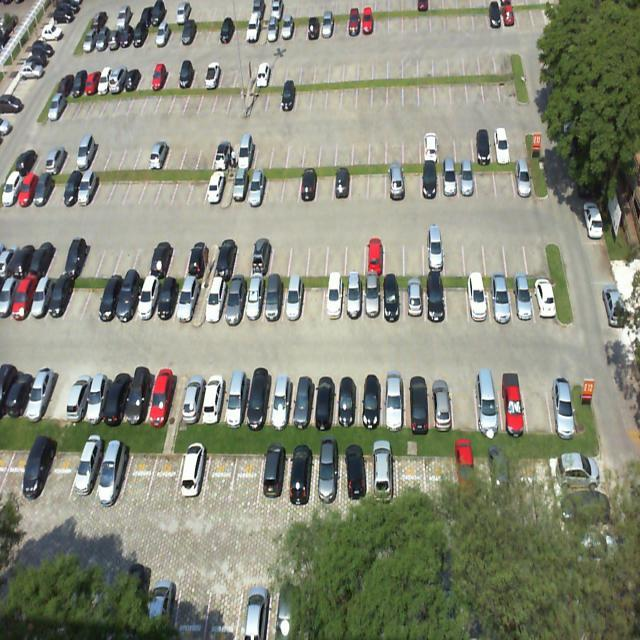space-empty: (123, 442, 158, 502), (148, 444, 182, 500), (43, 445, 78, 499), (231, 451, 264, 504), (204, 448, 238, 498), (523, 371, 550, 428), (452, 374, 479, 426), (483, 227, 507, 275), (443, 226, 466, 273), (130, 236, 156, 276), (113, 238, 140, 276), (303, 276, 324, 324), (155, 165, 178, 208), (525, 229, 548, 272), (444, 277, 467, 320), (188, 164, 211, 206), (167, 238, 192, 276), (505, 227, 526, 272), (139, 165, 162, 205), (287, 234, 310, 274), (404, 226, 424, 272), (172, 165, 193, 208), (382, 231, 404, 272), (229, 238, 252, 277), (464, 228, 484, 272), (307, 234, 328, 273), (345, 231, 364, 274), (268, 236, 290, 272), (324, 235, 344, 273), (478, 158, 496, 198), (494, 160, 514, 195), (267, 166, 284, 207), (283, 164, 300, 205), (368, 162, 386, 200), (403, 163, 420, 198), (316, 166, 332, 200), (351, 164, 367, 198)
space-occupied: (94, 445, 132, 502), (71, 446, 106, 501), (545, 370, 576, 426), (499, 373, 528, 432), (175, 445, 208, 496), (312, 451, 342, 507), (223, 370, 254, 424), (21, 446, 55, 494), (259, 448, 290, 500), (64, 367, 93, 420), (476, 372, 502, 429), (117, 271, 146, 322), (222, 272, 249, 326), (83, 371, 112, 421), (288, 449, 314, 504), (106, 371, 134, 422), (136, 267, 162, 320), (428, 375, 454, 428), (127, 370, 154, 420), (312, 372, 336, 428), (268, 373, 294, 424), (154, 274, 180, 324), (203, 370, 229, 420), (246, 372, 272, 422), (262, 270, 286, 324), (530, 270, 557, 318), (148, 374, 175, 422), (359, 371, 382, 426), (174, 272, 198, 324), (382, 371, 405, 424), (101, 270, 125, 320), (241, 275, 265, 325), (335, 373, 359, 423), (290, 372, 313, 424), (405, 374, 428, 426), (486, 273, 511, 320), (181, 373, 206, 418), (205, 273, 225, 327), (509, 276, 532, 320), (467, 275, 488, 322), (148, 237, 172, 278), (363, 276, 384, 322), (282, 276, 302, 324), (322, 277, 343, 322), (425, 229, 445, 276), (188, 239, 212, 278), (511, 156, 534, 196), (404, 274, 424, 320), (426, 276, 446, 322), (204, 166, 226, 206), (231, 164, 252, 205), (213, 239, 236, 276), (384, 276, 402, 322), (251, 235, 272, 272), (345, 275, 362, 320), (364, 235, 383, 273), (458, 162, 478, 198), (299, 166, 317, 205), (250, 166, 268, 204), (422, 163, 440, 198), (333, 165, 350, 202), (388, 162, 404, 200), (440, 162, 458, 195)
